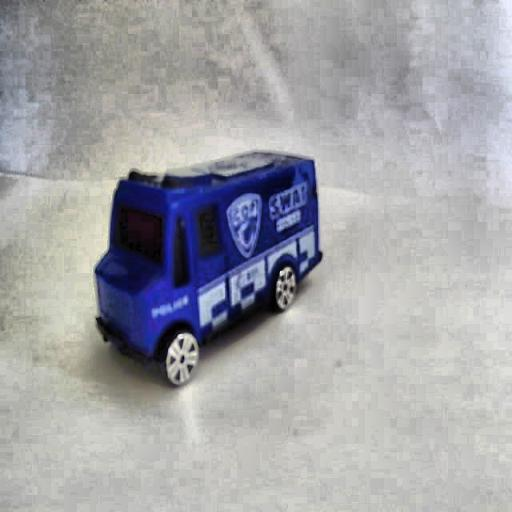police car: (90, 150, 327, 388)
